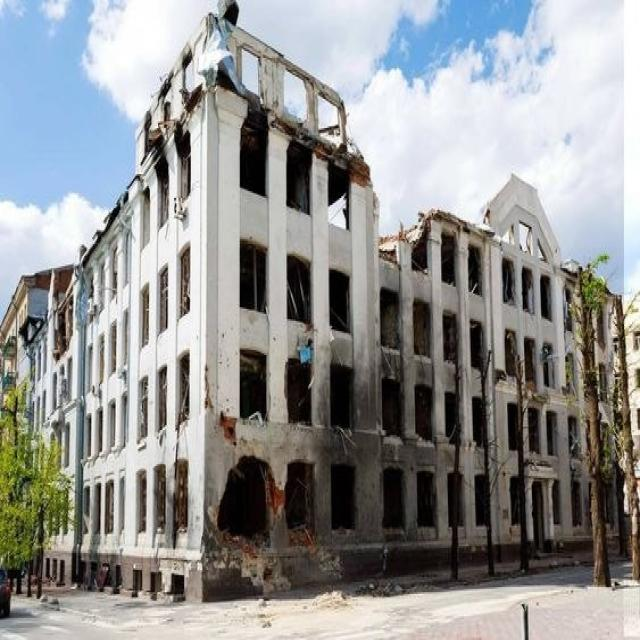building: (4, 0, 635, 602)
